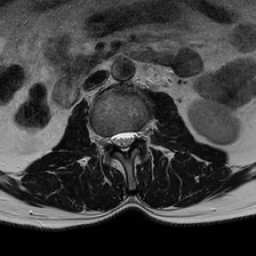CCS_normal: (120, 128, 128, 157)
LFS_normal: (137, 124, 145, 144)
LLS_normal: (129, 126, 136, 148)
RFS_normal: (102, 129, 113, 149)
RLS_normal: (112, 128, 121, 152)
